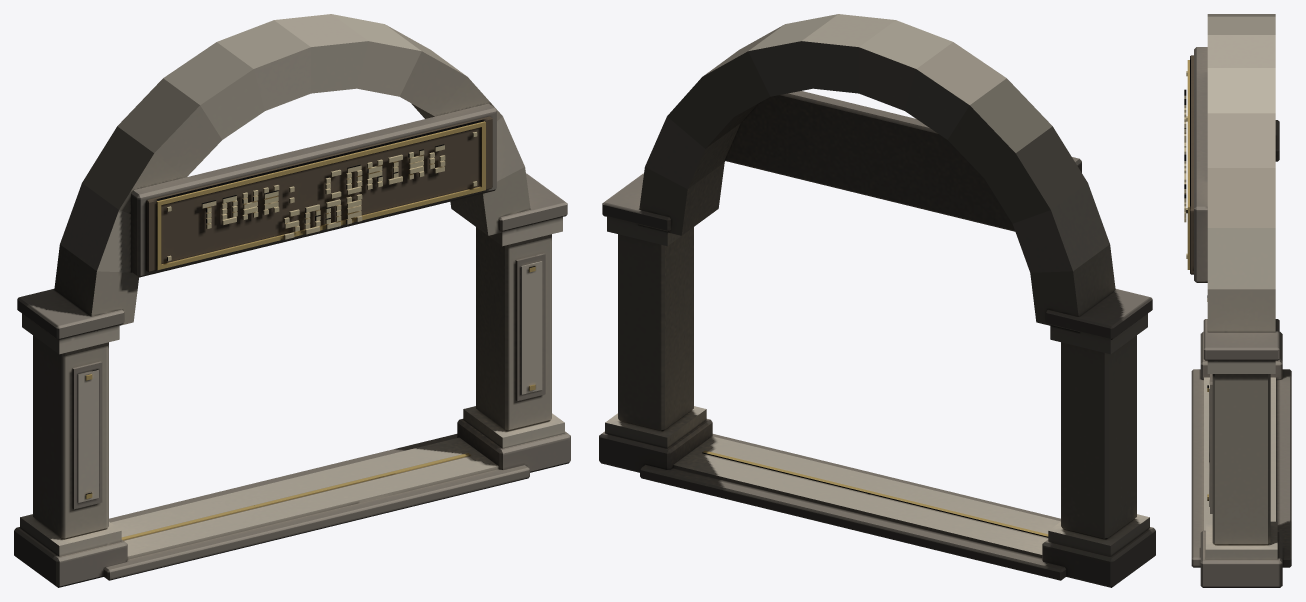
The model's file is 0-20261016-1900-ev062-r11-exterior-townarchway_baked.glb.
The picture shows the model from 3 angles, left to right: view 1: azimuth 30°, elevation 25°; view 2: azimuth 150°, elevation 25°; view 3: azimuth 270°, elevation 25°; orthographic projection. The views are drawn at different scales.
Parts seen in each view (by area): view 1: SW_Exterior_TownArchway; view 2: SW_Exterior_TownArchway; view 3: SW_Exterior_TownArchway.
Part boxes in pixels (left/top/right/bottom): SW_Exterior_TownArchway: left=14, top=14, right=570, bottom=587; SW_Exterior_TownArchway: left=599, top=14, right=1155, bottom=587; SW_Exterior_TownArchway: left=1184, top=14, right=1291, bottom=587.
Size of the model in its own units: 5.46 by 4.83 by 1.07.
Materials: 1 (1 with a texture image).
